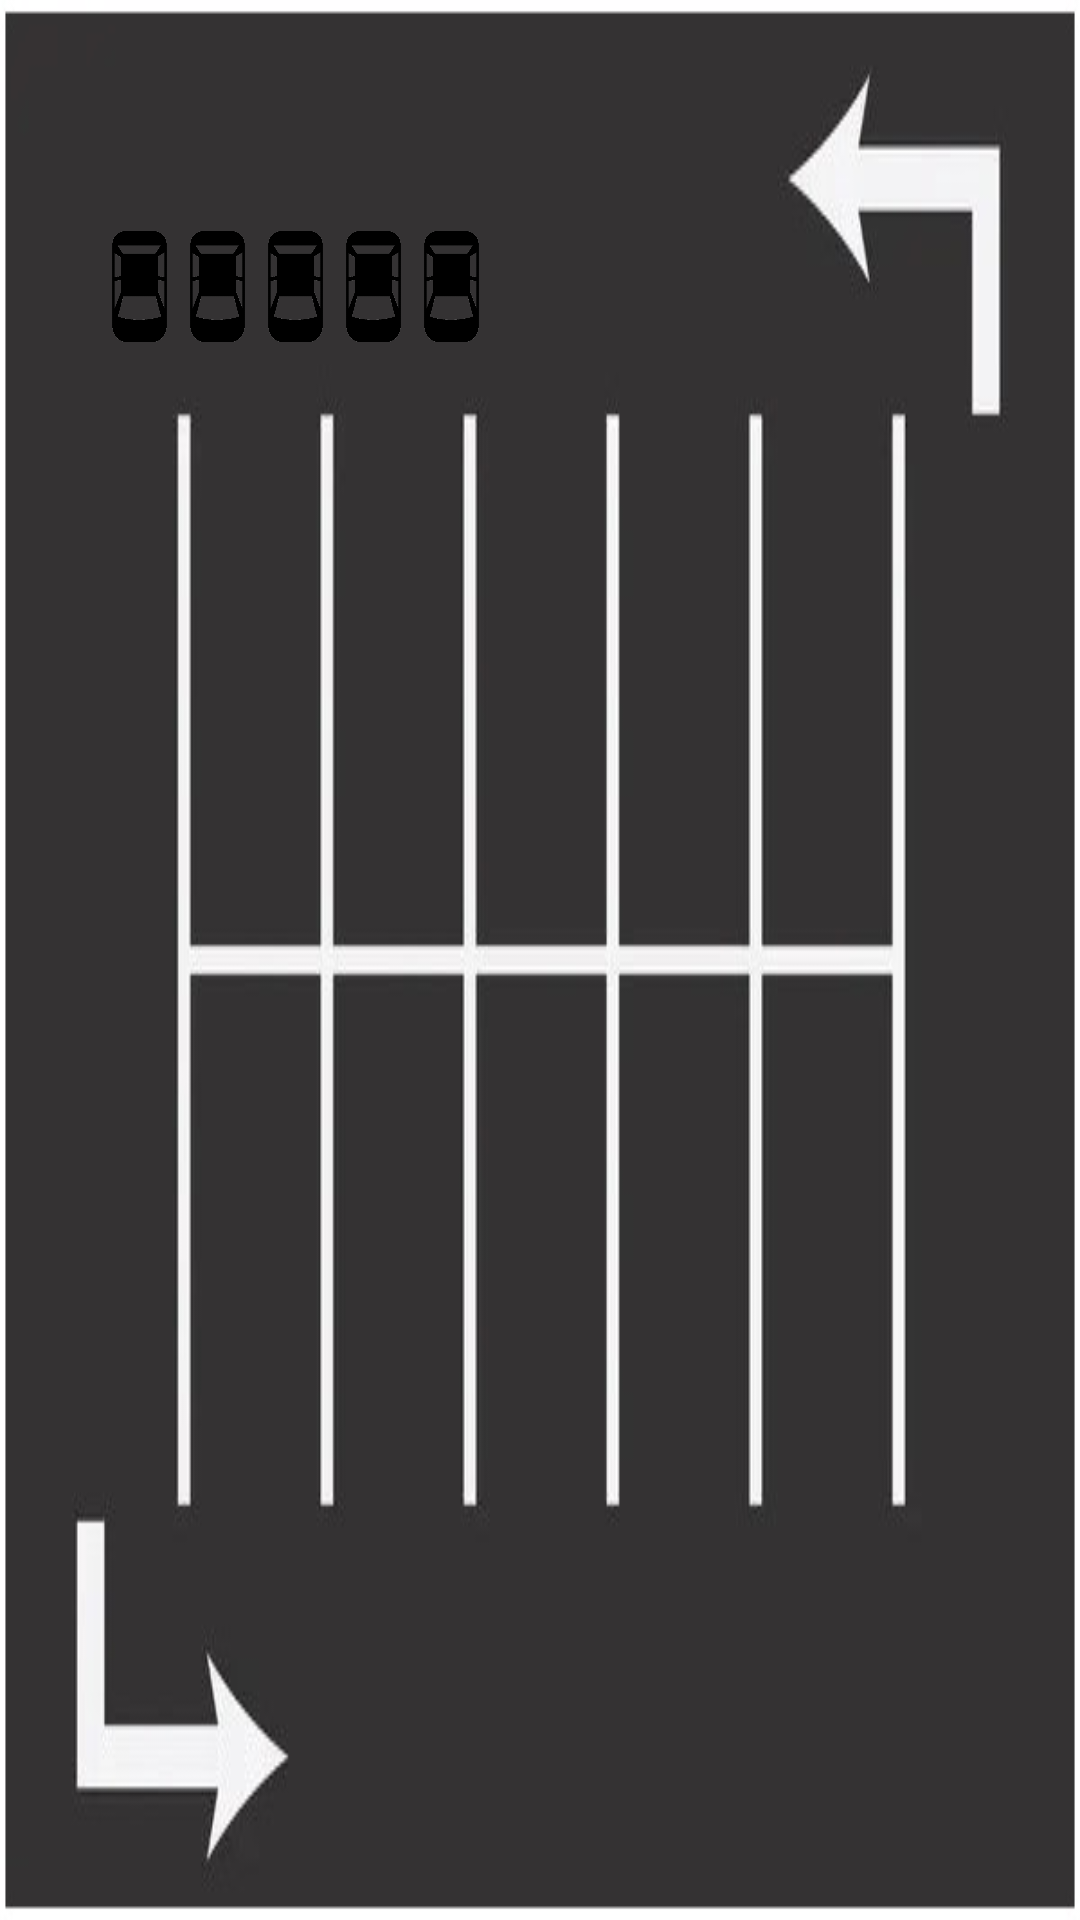

Named icons in this screenshot (1080w x 1920h) and their centers, point (x, y):
car rotated: point (139, 286), point (217, 286), point (295, 286), point (373, 286), point (451, 286)
